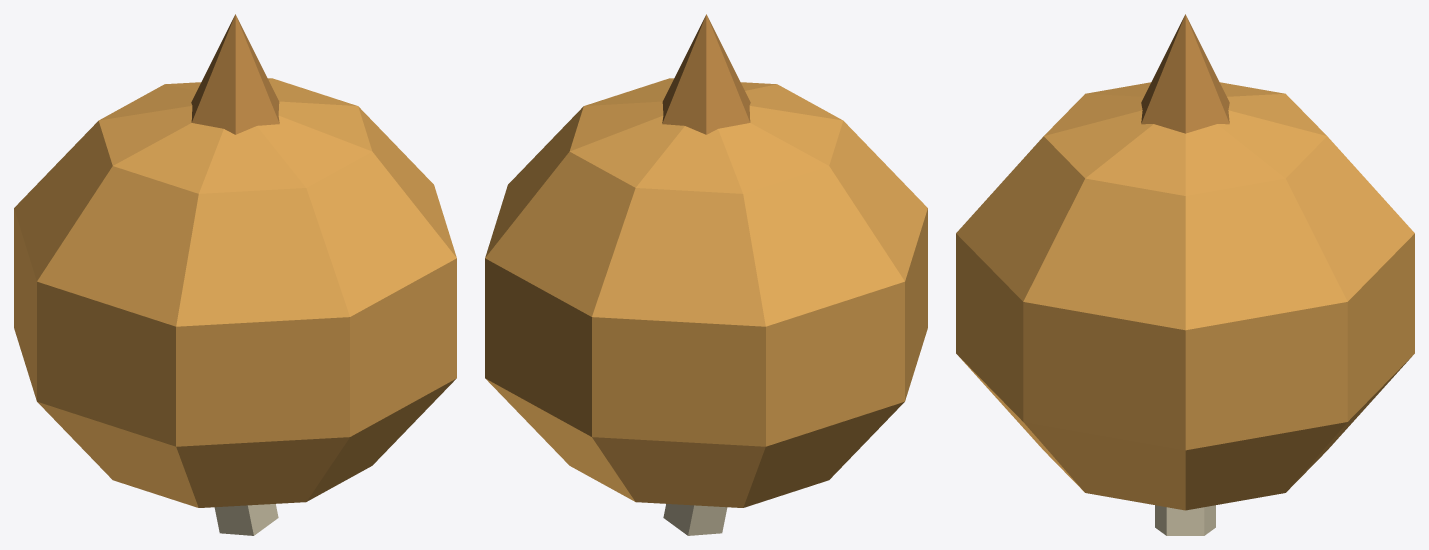
The model's file is Food_Onion.obj.
3 renders of one model, left to right at view 1: azimuth 30°, elevation 25°; view 2: azimuth 150°, elevation 25°; view 3: azimuth 270°, elevation 25°, orthographic.
Bounding box in the file's own units: 1.71 × 2.12 × 1.71.
